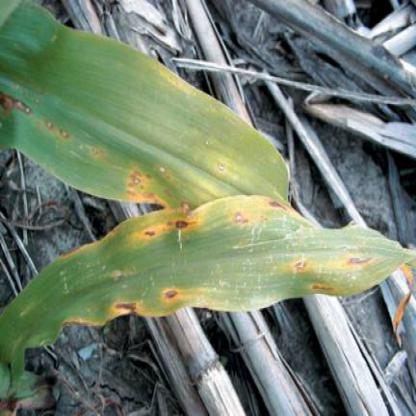Corn leaf blight: (10, 202, 415, 367), (7, 1, 299, 207)
